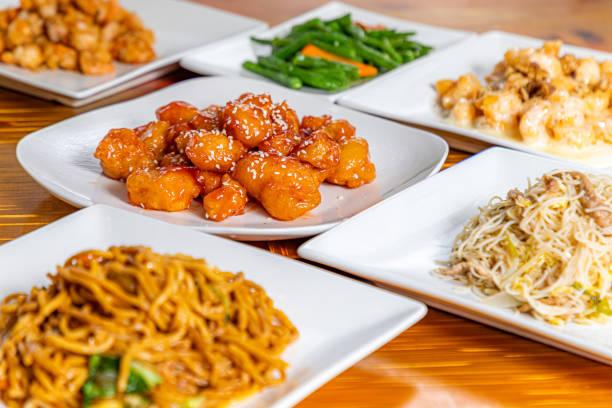Braised Crucian Carp: (16, 74, 442, 239), (312, 155, 612, 357), (4, 243, 295, 406), (184, 0, 468, 95), (385, 38, 612, 152), (0, 0, 263, 94)
